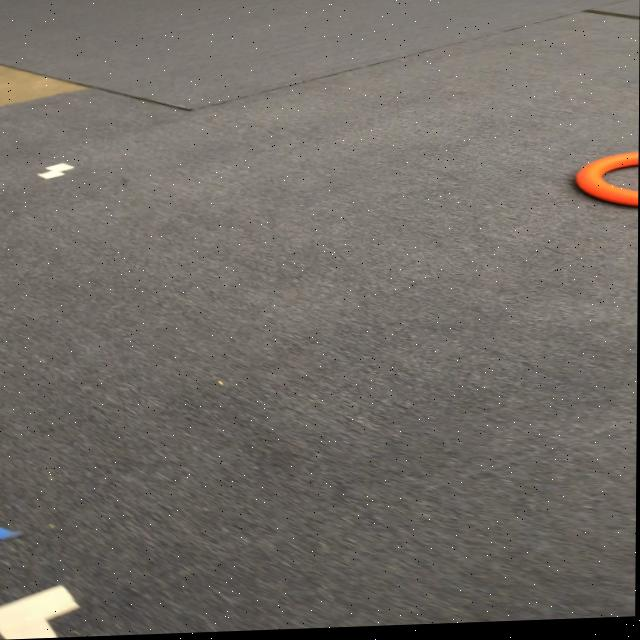note: (578, 158, 639, 214)
